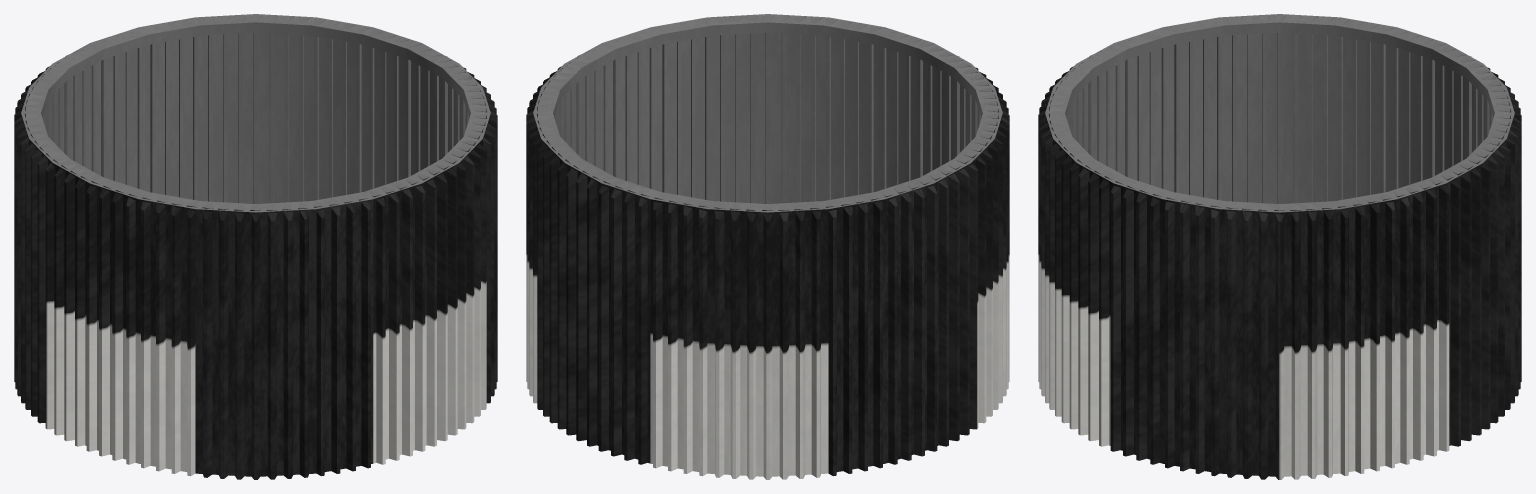
Rendered from ksprocket.fbx.
3 views of the same model, side by side, from view 1: azimuth 30°, elevation 25°; view 2: azimuth 150°, elevation 25°; view 3: azimuth 270°, elevation 25° (orthographic).
Parts seen in each view (by area): view 1: tank.008; view 2: tank.008; view 3: tank.008.
Boxes of the visible parts, bbox=[...] form: tank.008: bbox=[14, 14, 497, 479]; tank.008: bbox=[526, 14, 1009, 479]; tank.008: bbox=[1038, 14, 1521, 479].
Bounding box in the file's own units: 680 × 411 × 680.
